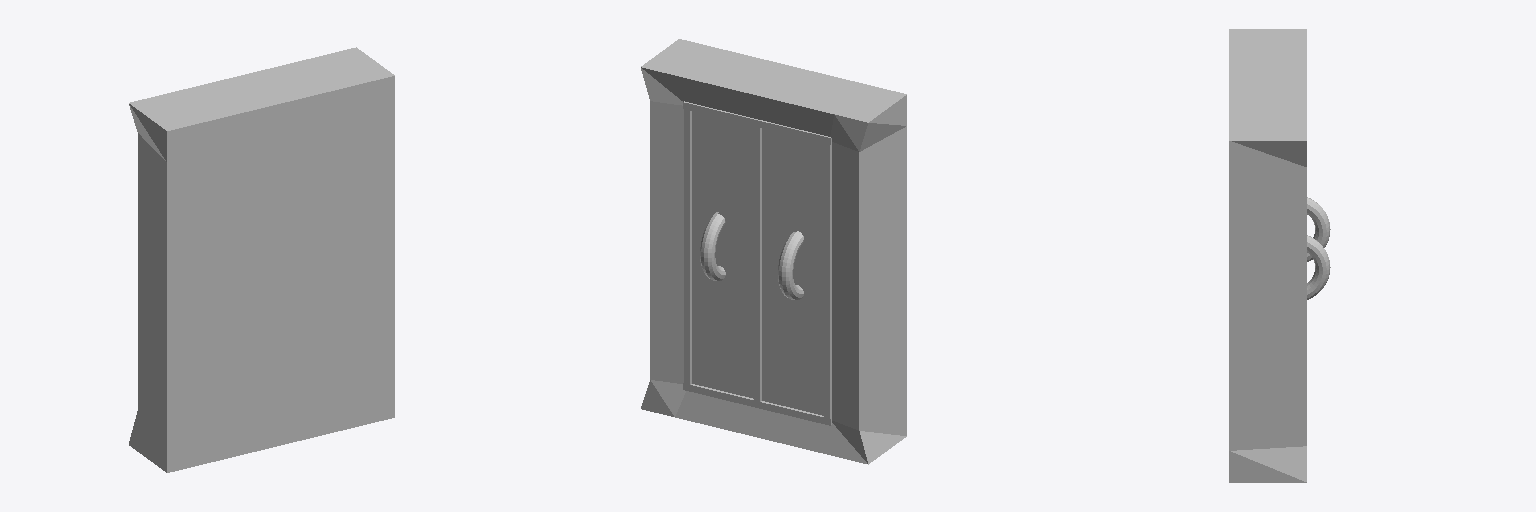
File: close_closed.obj
The picture shows the model from 3 angles: view 1: azimuth 30°, elevation 25°; view 2: azimuth 150°, elevation 25°; view 3: azimuth 270°, elevation 25°; orthographic projection.
Visible parts, largest first — view 1: Cube; view 2: Cube, Cube.002, Cube.003, Torus, Cube.001; view 3: Cube, Torus.
Boxes of the visible parts, x1,y1,x2,y2 form: Cube: [129, 47, 394, 472]; Cube: [641, 39, 906, 464]; Cube.002: [684, 103, 831, 424]; Cube.003: [683, 101, 831, 425]; Torus: [700, 212, 803, 299]; Cube.001: [754, 123, 761, 407]; Cube: [1229, 29, 1306, 482]; Torus: [1307, 197, 1330, 299].
Size of the model in its own units: 4.28 by 6.13 by 1.64.